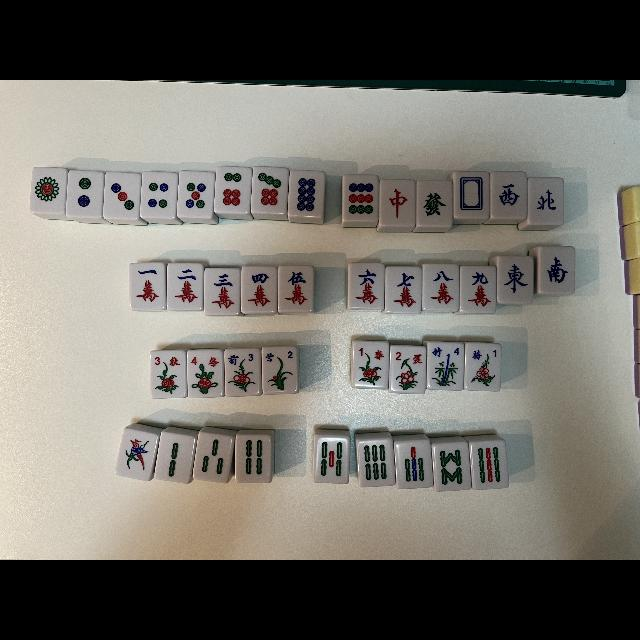b1: (116, 429, 156, 481)
b2: (154, 432, 193, 482)
b3: (193, 432, 233, 482)
b4: (236, 436, 270, 482)
b5: (314, 436, 348, 484)
b6: (356, 439, 394, 486)
b7: (394, 442, 434, 488)
b8: (432, 444, 470, 490)
b9: (470, 442, 510, 490)
c1: (129, 262, 165, 310)
c2: (167, 263, 203, 309)
c3: (205, 268, 241, 314)
c4: (242, 266, 276, 312)
c5: (278, 267, 314, 311)
c6: (349, 264, 385, 308)
c7: (386, 268, 422, 312)
c8: (424, 264, 458, 310)
c9: (459, 266, 496, 312)
d1: (30, 167, 66, 213)
d2: (67, 171, 103, 217)
d3: (103, 172, 139, 218)
d4: (142, 172, 176, 218)
d5: (177, 170, 213, 218)
d6: (214, 167, 250, 213)
d7: (251, 166, 287, 214)
d8: (289, 172, 323, 216)
d9: (344, 175, 378, 221)
dg: (416, 182, 452, 226)
dr: (380, 180, 414, 226)
dw: (452, 172, 490, 218)
f1: (466, 346, 500, 364)
f2: (262, 349, 298, 367)
f3: (224, 350, 260, 368)
f4: (427, 344, 463, 361)
s1: (352, 342, 388, 362)
s2: (390, 347, 426, 367)
s3: (151, 351, 187, 371)
s4: (188, 351, 222, 371)
we: (497, 258, 533, 302)
wn: (528, 178, 564, 225)
ws: (539, 247, 575, 293)
ww: (489, 172, 526, 218)
